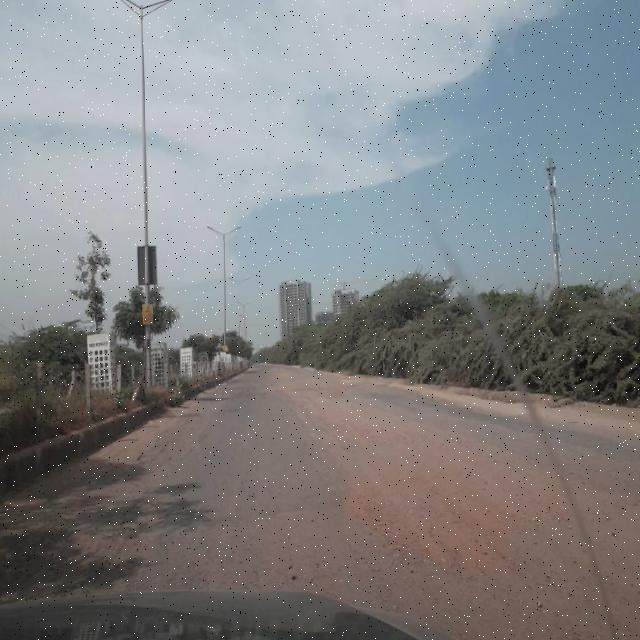D40: (323, 416, 510, 597)
